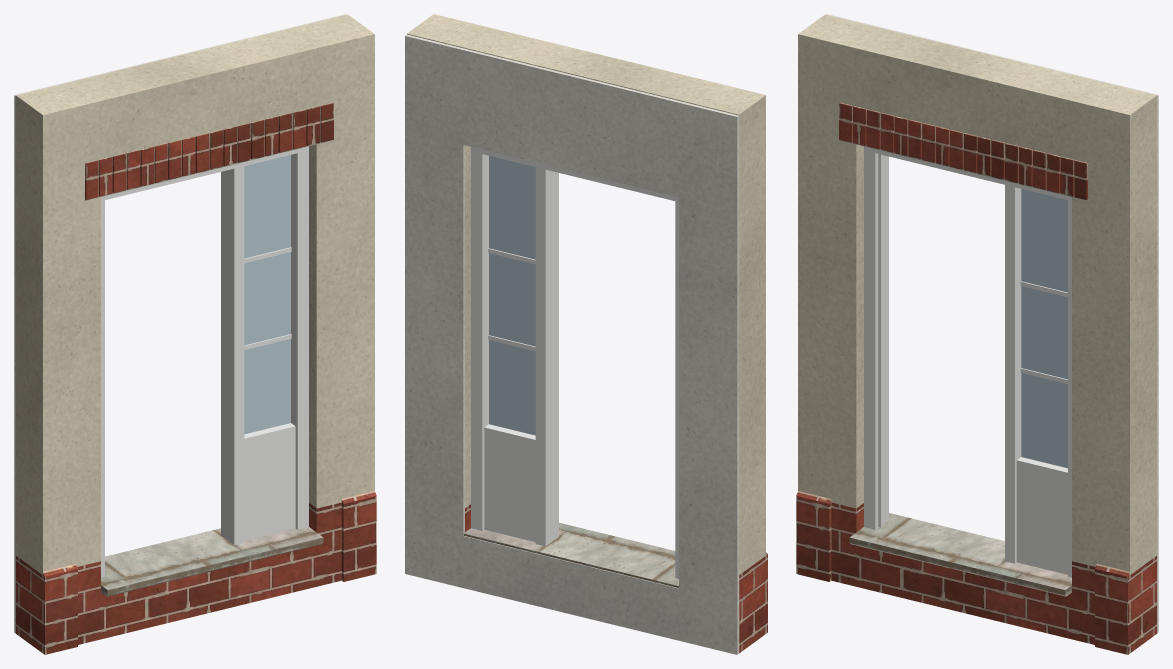
The model's file is w_g_door.glb.
The picture shows the model from 3 angles, left to right: view 1: azimuth 30°, elevation 25°; view 2: azimuth 150°, elevation 25°; view 3: azimuth 330°, elevation 25°; orthographic projection.
Visible parts, largest first — view 1: w_g_door_render, w_g_door_brick, w_g_door_frame, w_g_door_glass, w_g_door_cill, w_g_door_plaster; view 2: w_g_door_plaster, w_g_door_render, w_g_door_frame, w_g_door_glass, w_g_door_cill, w_g_door_brick; view 3: w_g_door_render, w_g_door_brick, w_g_door_frame, w_g_door_glass, w_g_door_cill, w_g_door_plaster.
Part boxes in pixels (x1,y1,x2,y2): w_g_door_render: (16,14,374,574); w_g_door_brick: (16,102,376,654); w_g_door_frame: (101,146,308,577); w_g_door_glass: (244,155,290,434); w_g_door_cill: (84,139,334,596); w_g_door_plaster: (14,14,346,633); w_g_door_plaster: (405,34,739,654); w_g_door_render: (407,14,765,574); w_g_door_frame: (471,147,678,578); w_g_door_glass: (489,156,535,435); w_g_door_cill: (463,522,678,587); w_g_door_brick: (465,504,767,652); w_g_door_render: (798,14,1156,574); w_g_door_brick: (796,102,1156,654); w_g_door_frame: (864,146,1071,577); w_g_door_glass: (1021,189,1067,468); w_g_door_cill: (838,139,1088,596); w_g_door_plaster: (826,14,1158,633).
Bounding box in the file's own units: 2 × 3.1 × 0.37.
Materials: 6 (4 with a texture image).
